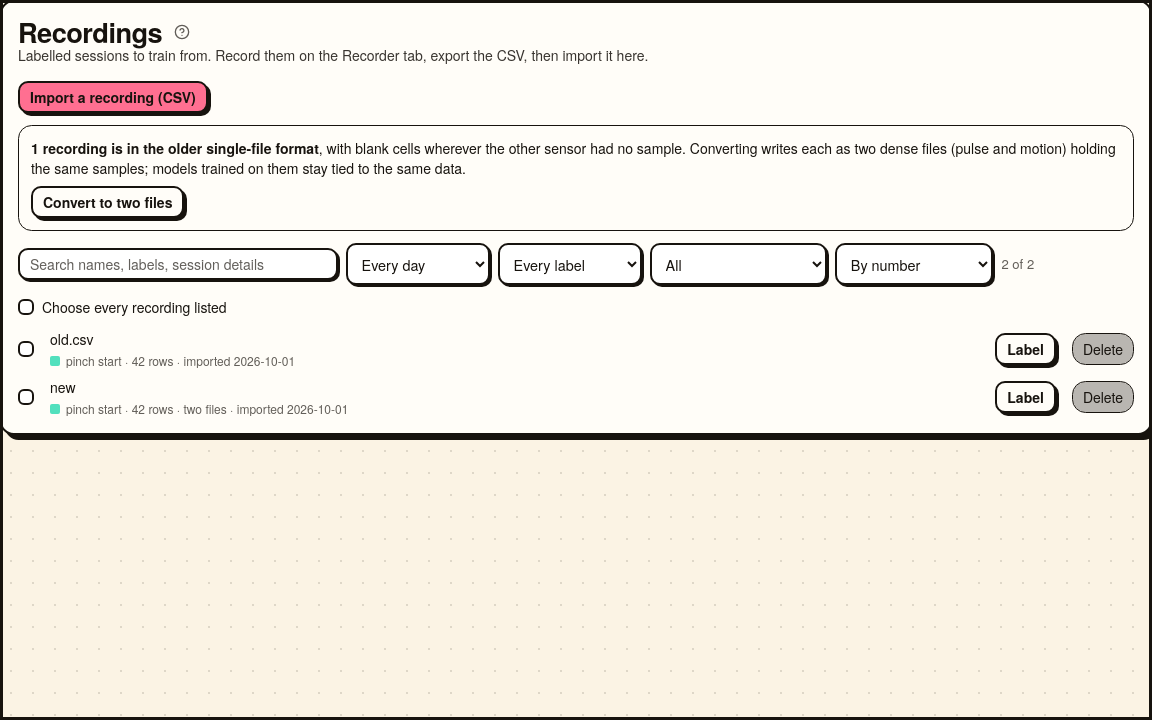
Test case: DatasetManager › offers to convert recordings in the older format, says what happened to each, and reloads
Expected: the element named "Older recordings" shows "1 recording is in the older single-file format", [18,125,1134,231]
Click the button "Convert to two files": (108, 202) [31,186,184,218]
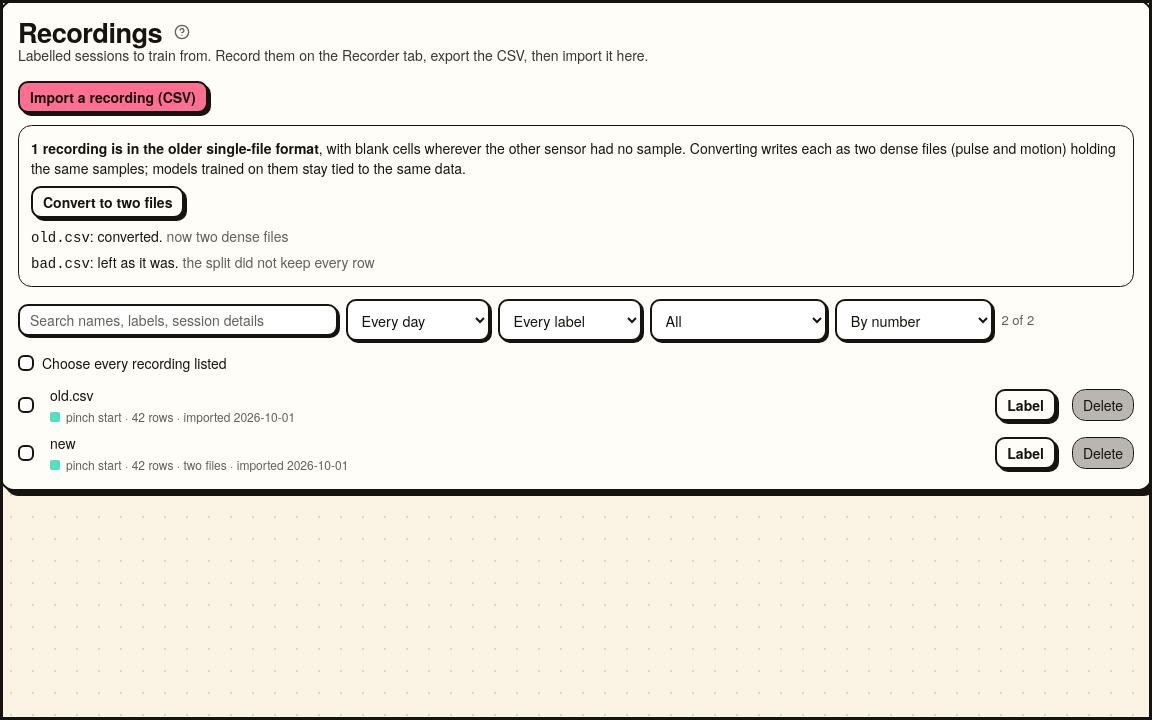
Expected: the list named "Conversion results" shows "old.csv: converted", [31,226,375,272]
Expected: the list named "Conversion results" shows "bad.csv: left as it was. the split did not keep every row", [31,226,375,272]
